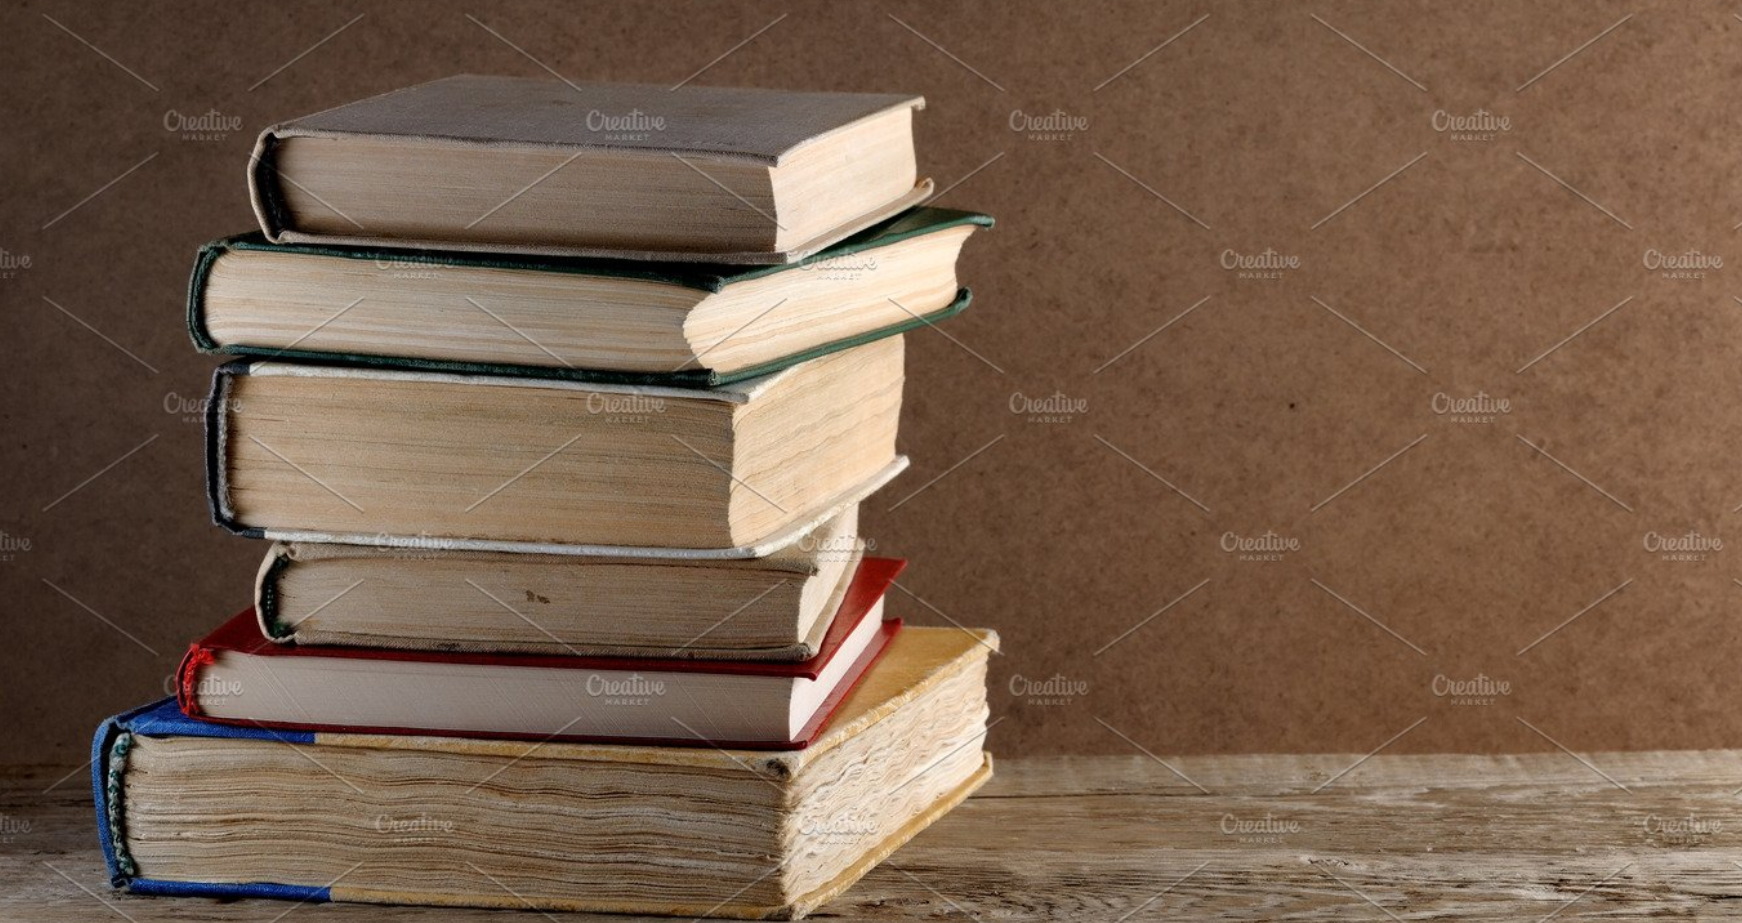book: (94, 708, 952, 923), (194, 360, 914, 550), (241, 71, 917, 268), (191, 241, 978, 377), (187, 637, 864, 744), (255, 545, 836, 660)
